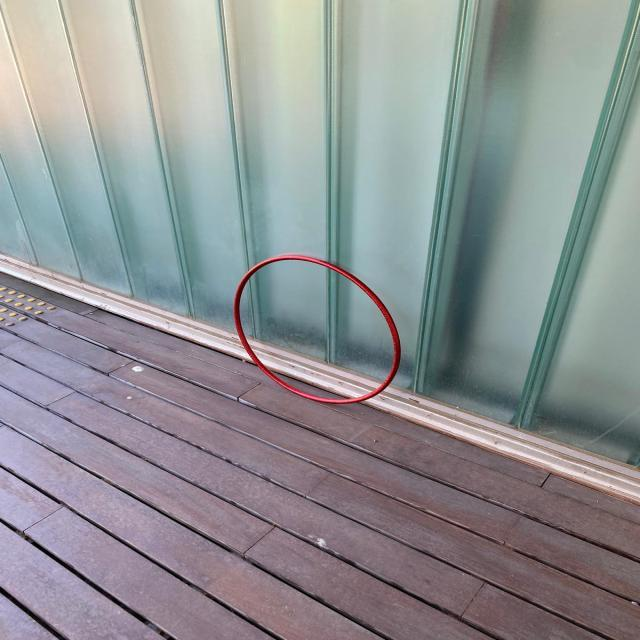Circle: (232, 254, 402, 406)
